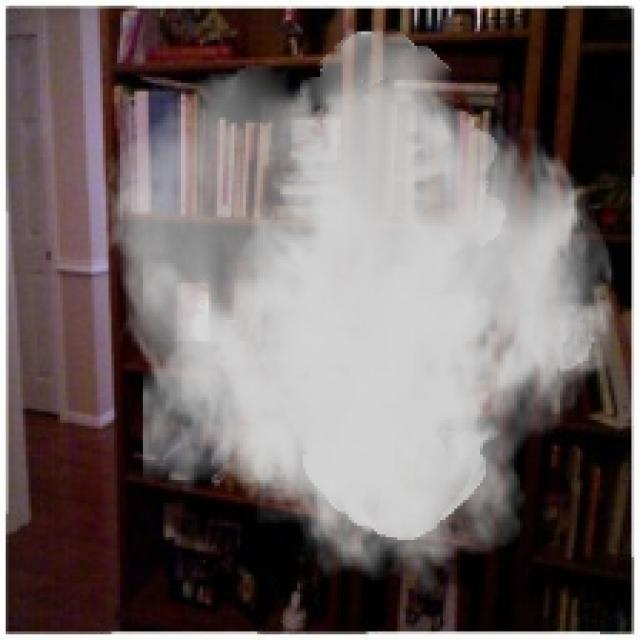smoke: (97, 29, 620, 597)
